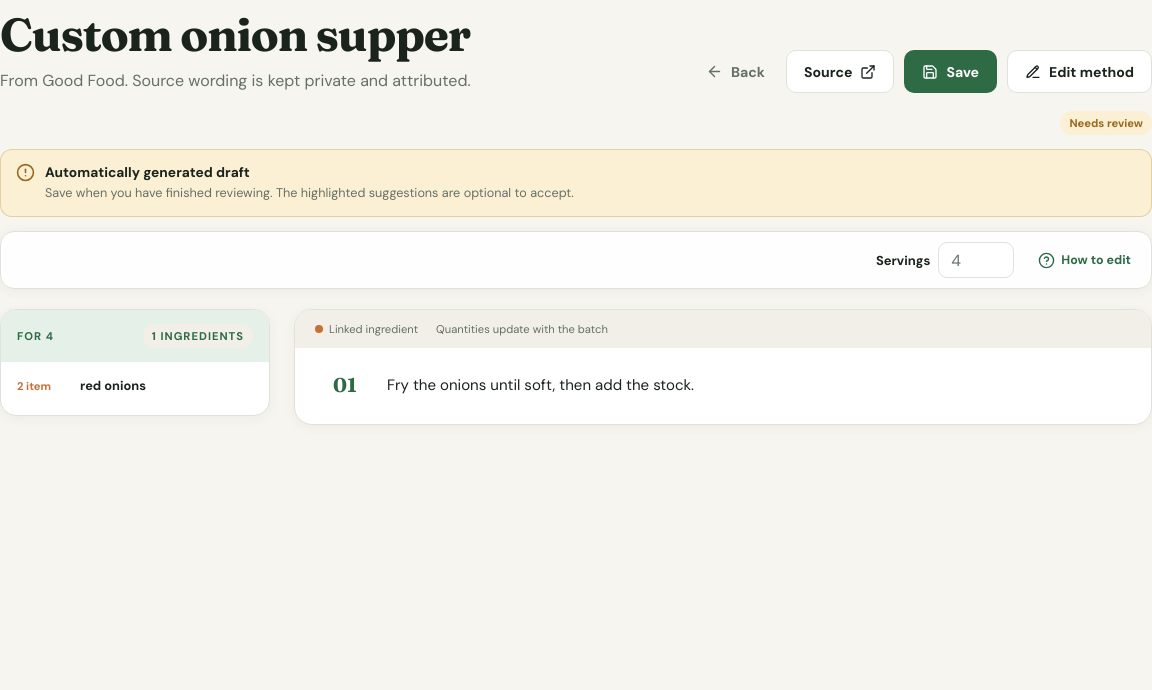
Test: MethodPage › blocks closing and saving while custom wording is being edited
Expected: the heading "Custom onion supper" is shown, 0,11 -> 471,60
Click the button "Edit method" at (1080, 72), box 1007,50 -> 1151,93
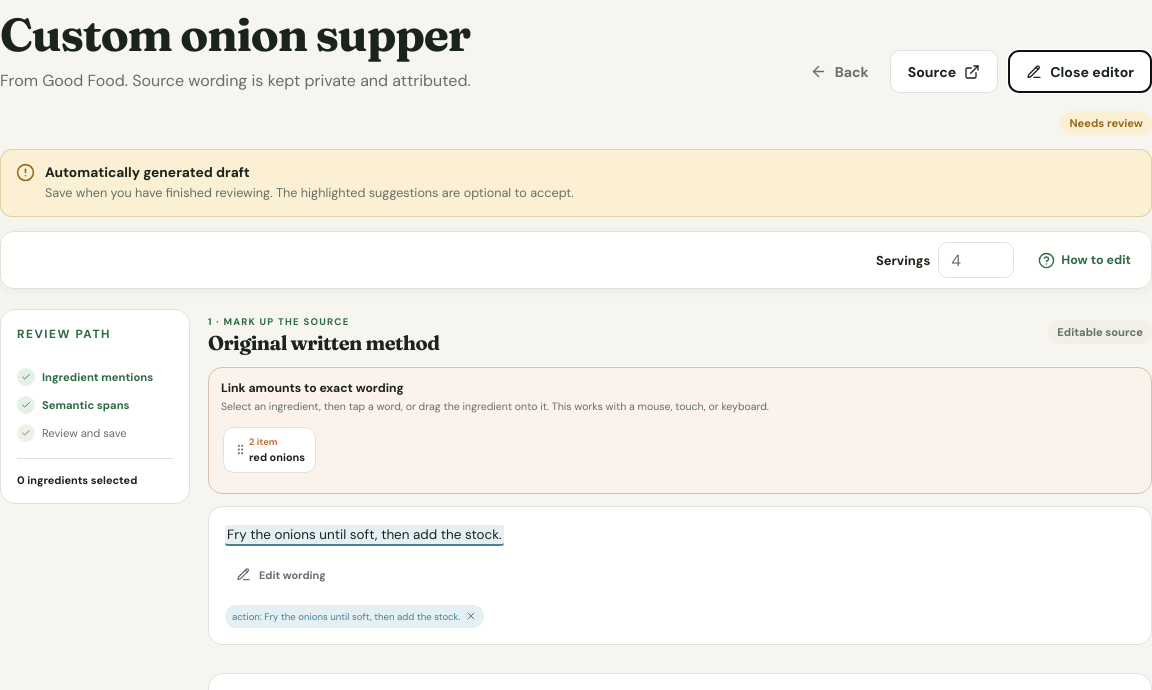
Click the button "Edit wording" at (281, 575), box 225,557 -> 337,593
(page scrolled)
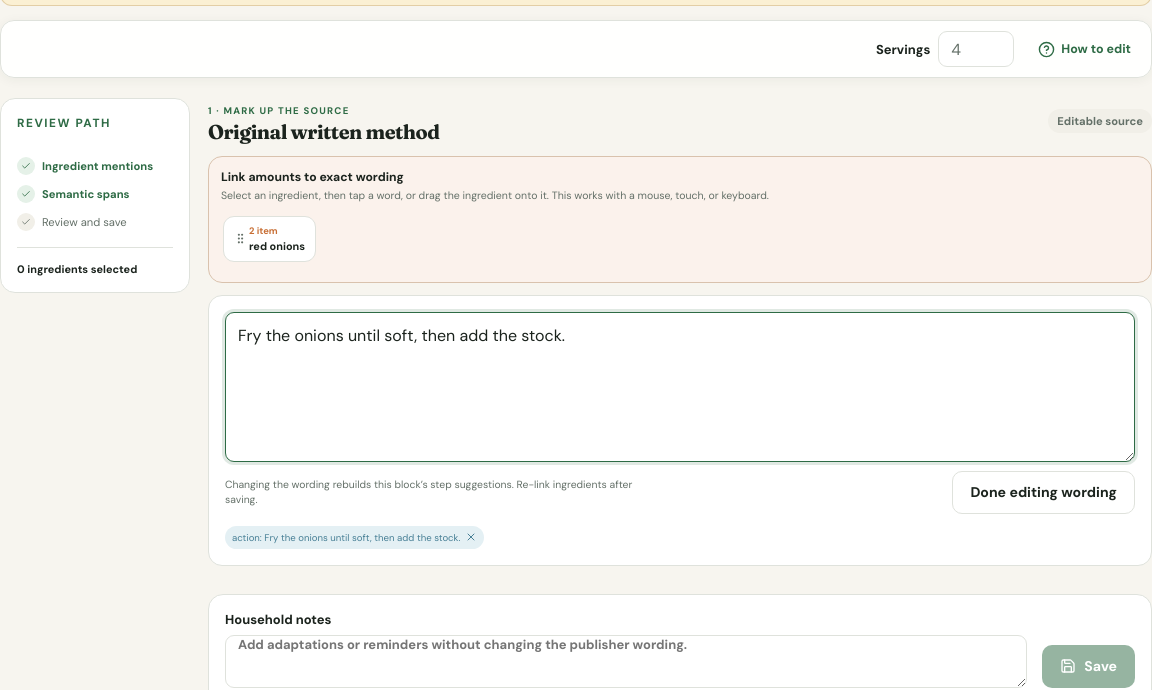
Now the button "Save" is disabled, box 1042,645 -> 1135,688
